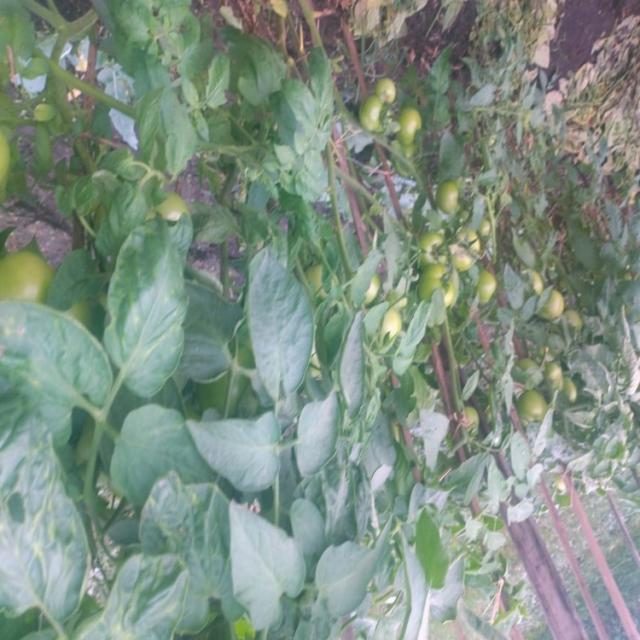tomato: (1, 239, 59, 315), (421, 261, 460, 309), (300, 256, 337, 302), (472, 258, 504, 311), (396, 107, 427, 159), (153, 188, 190, 228), (536, 285, 568, 329), (419, 229, 452, 269), (351, 92, 384, 132), (462, 222, 483, 269), (523, 396, 547, 431), (377, 72, 402, 104), (380, 311, 402, 346), (438, 176, 460, 208)
